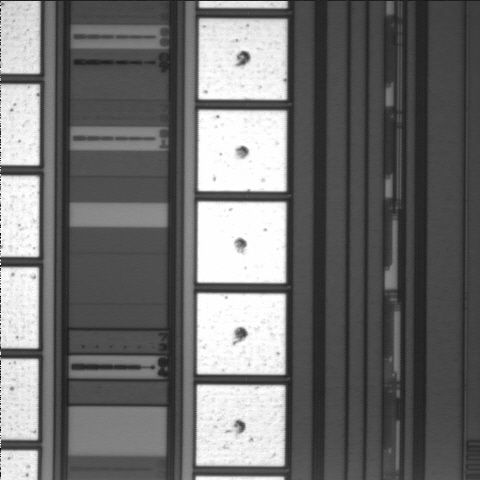pad: (198, 110, 287, 192), (197, 293, 286, 375), (198, 19, 287, 100), (197, 202, 286, 283), (196, 385, 285, 466)
